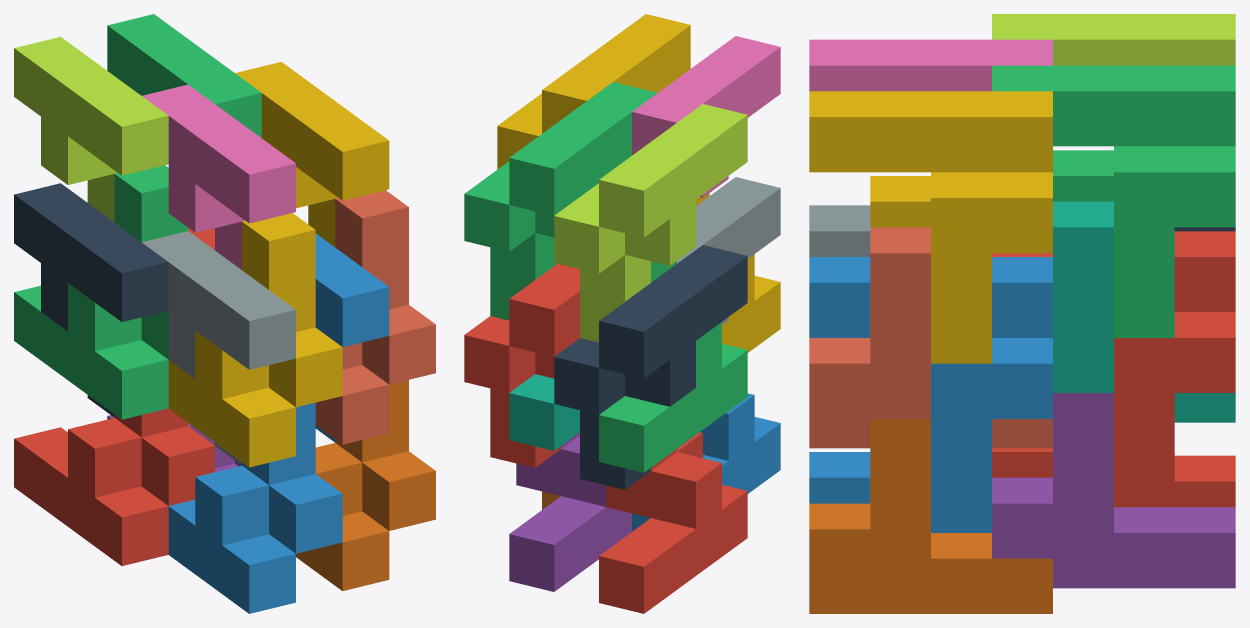
Rendered from tiling.obj.
The picture shows the model from 3 angles, left to right: view 1: azimuth 30°, elevation 25°; view 2: azimuth 150°, elevation 25°; view 3: azimuth 270°, elevation 25°; orthographic projection. The views are drawn at different scales.
Visible parts, largest first — view 1: copy_1_domain_1, copy_1_domain_4, copy_1_domain_2, copy_1_domain_3, copy_2_domain_3, copy_1_domain_8, copy_2_domain_4, copy_2_domain_1, copy_1_domain_6, copy_2_domain_8, copy_2_domain_2, copy_2_domain_7 (+1 smaller); view 2: copy_2_domain_3, copy_2_domain_1, copy_2_domain_7, copy_1_domain_1, copy_2_domain_5, copy_1_domain_5, copy_1_domain_3, copy_2_domain_8, copy_2_domain_4, copy_2_domain_2, copy_1_domain_2, copy_1_domain_7 (+1 smaller); view 3: copy_2_domain_8, copy_2_domain_7, copy_1_domain_6, copy_1_domain_5, copy_2_domain_6, copy_2_domain_5, copy_1_domain_8, copy_1_domain_7, copy_2_domain_4, copy_2_domain_3, copy_1_domain_1, copy_1_domain_2 (+3 smaller).
Boxes of the visible parts, left/top/right/bottom form: copy_1_domain_1: left=14, top=408, right=214, bottom=565; copy_1_domain_4: left=168, top=213, right=342, bottom=467; copy_1_domain_2: left=168, top=402, right=342, bottom=613; copy_1_domain_3: left=14, top=165, right=188, bottom=419; copy_2_domain_3: left=14, top=36, right=168, bottom=222; copy_1_domain_8: left=315, top=190, right=435, bottom=444; copy_2_domain_4: left=142, top=84, right=295, bottom=269; copy_2_domain_1: left=14, top=183, right=168, bottom=417; copy_1_domain_6: left=296, top=380, right=435, bottom=591; copy_2_domain_8: left=235, top=61, right=389, bottom=246; copy_2_domain_2: left=142, top=231, right=295, bottom=465; copy_2_domain_7: left=107, top=14, right=261, bottom=137; copy_2_domain_3: left=554, top=104, right=747, bottom=342; copy_2_domain_1: left=554, top=245, right=747, bottom=489; copy_2_domain_7: left=464, top=82, right=657, bottom=320; copy_1_domain_1: left=599, top=432, right=747, bottom=613; copy_2_domain_5: left=464, top=263, right=579, bottom=467; copy_1_domain_5: left=509, top=432, right=631, bottom=591; copy_1_domain_3: left=599, top=261, right=747, bottom=472; copy_2_domain_8: left=497, top=14, right=690, bottom=169; copy_2_domain_4: left=632, top=36, right=780, bottom=197; copy_2_domain_2: left=677, top=177, right=780, bottom=324; copy_1_domain_2: left=632, top=393, right=780, bottom=531; copy_1_domain_7: left=509, top=374, right=579, bottom=450; copy_2_domain_8: left=809, top=91, right=1052, bottom=363; copy_2_domain_7: left=992, top=65, right=1235, bottom=337; copy_1_domain_6: left=809, top=419, right=1052, bottom=613; copy_1_domain_5: left=992, top=393, right=1235, bottom=588; copy_2_domain_6: left=809, top=257, right=1052, bottom=529; copy_2_domain_5: left=992, top=231, right=1235, bottom=503; copy_1_domain_8: left=809, top=227, right=1052, bottom=448; copy_1_domain_7: left=1053, top=201, right=1235, bottom=422; copy_2_domain_4: left=809, top=39, right=1052, bottom=91; copy_2_domain_3: left=992, top=14, right=1235, bottom=65; copy_1_domain_1: left=992, top=448, right=1235, bottom=507; copy_1_domain_2: left=809, top=452, right=991, bottom=532.
Size of the model in its own units: 5 by 9 by 7.
